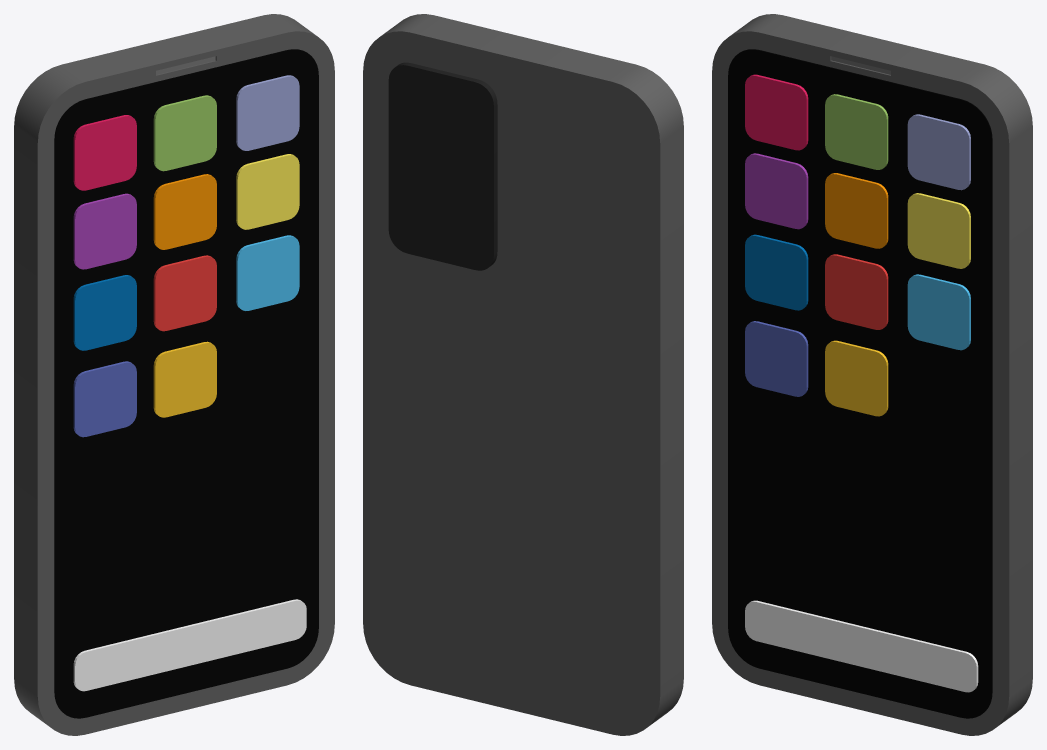
The model's file is mobile_phone.glb.
The picture shows the model from 3 angles, left to right: view 1: azimuth 30°, elevation 25°; view 2: azimuth 150°, elevation 25°; view 3: azimuth 330°, elevation 25°; orthographic projection.
Parts seen in each view (by area): view 1: Cube.916; view 2: Cube.916; view 3: Cube.916.
Part boxes in pixels (x1=…): Cube.916: x1=14, y1=14, x2=334, y2=735; Cube.916: x1=363, y1=14, x2=683, y2=735; Cube.916: x1=712, y1=14, x2=1032, y2=735.
Size of the model in its own units: 1.22 by 2.57 by 0.2099.
1 material, 1 textured.
